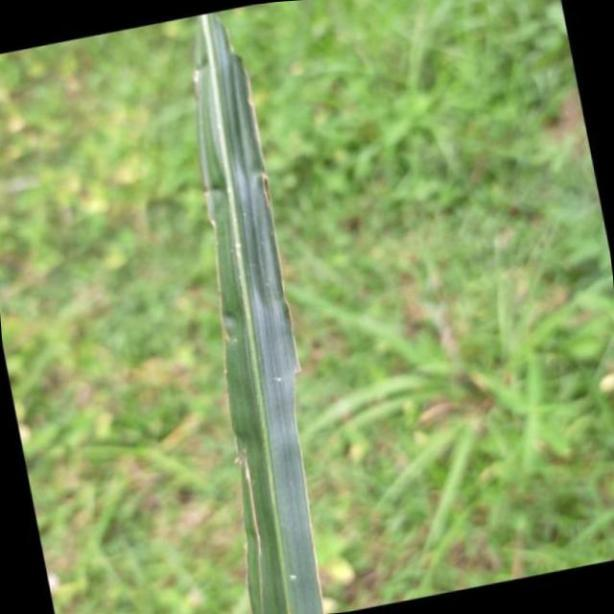Boron: (186, 12, 322, 614)
